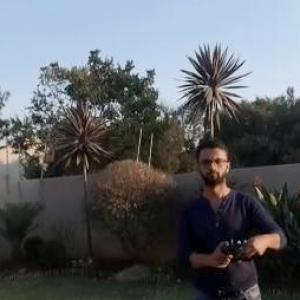follow: (167, 130, 290, 299)
